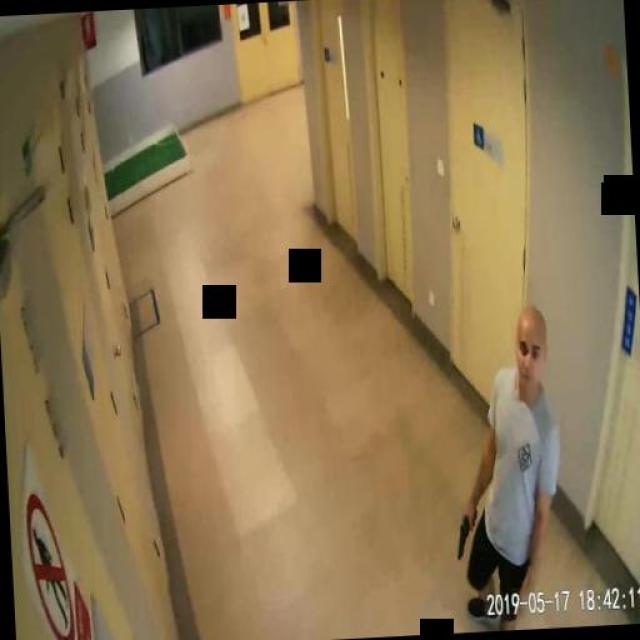gun: (453, 505, 478, 557)
